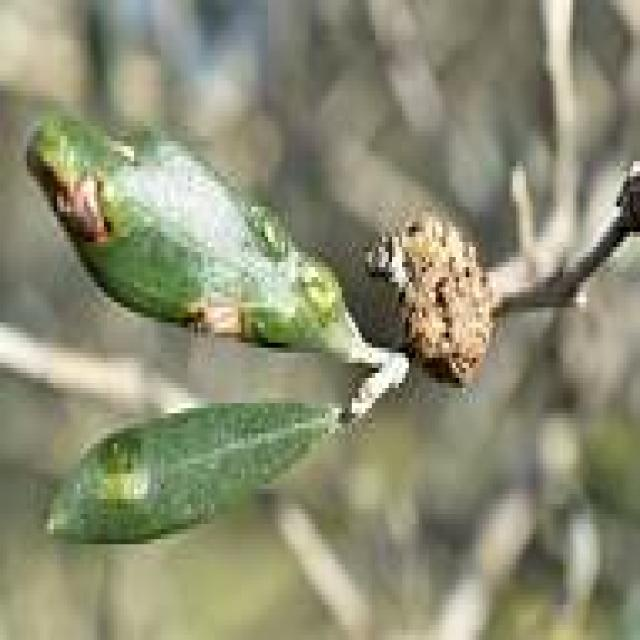Peacock Eye: (27, 106, 359, 353), (44, 403, 338, 549)
Tuberculosis: (365, 207, 499, 383)
